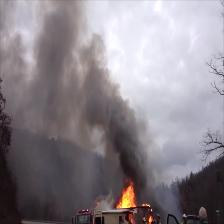fire: (117, 185, 140, 207)
smoke: (21, 0, 110, 97), (101, 108, 143, 175)
